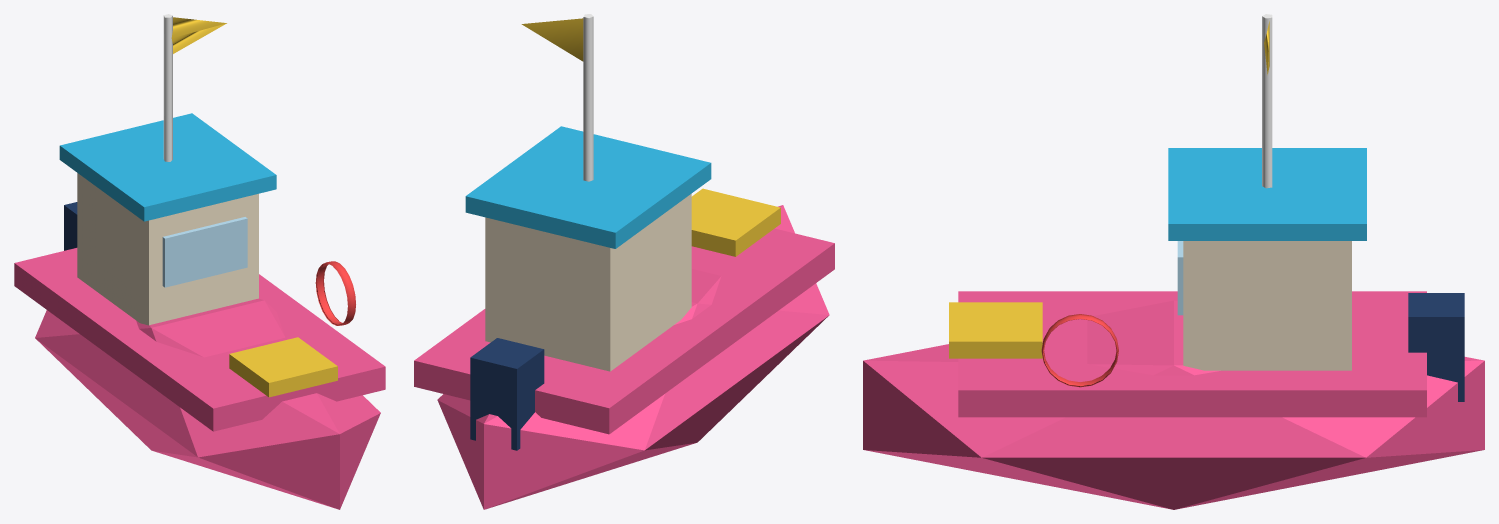
File: barco.glb
3 views of the same model, side by side, from view 1: azimuth 30°, elevation 25°; view 2: azimuth 150°, elevation 25°; view 3: azimuth 270°, elevation 25° (orthographic). The views are drawn at different scales.
Visible parts, largest first — view 1: barco; view 2: barco; view 3: barco.
Part boxes in pixels (bbox=[...]): barco: bbox=[14, 14, 385, 509]; barco: bbox=[414, 14, 834, 509]; barco: bbox=[863, 14, 1484, 509].
Size of the model in its own units: 1.33 by 2.72 by 3.32.
